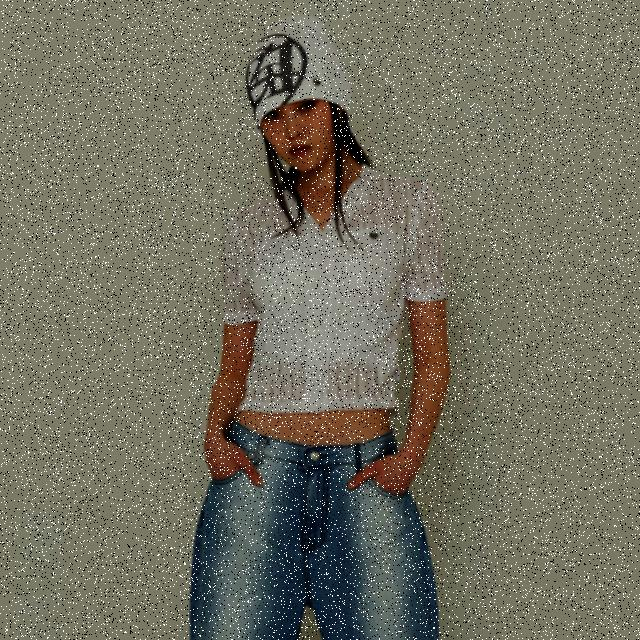dress: (222, 163, 446, 418)
